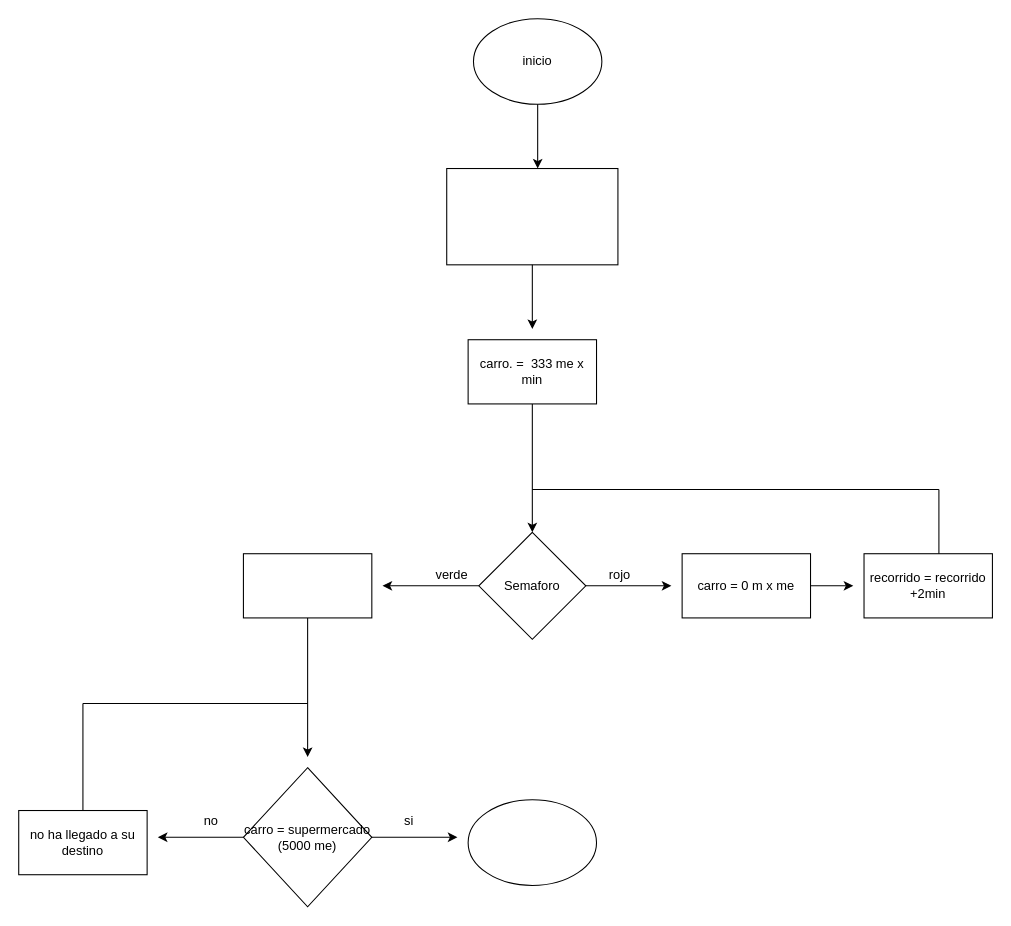
Image size: 1011x926. Some labels were removed from this diagram. Each missing label, with the centre of its shape:
carro = 333 metros x min: pixel 307 585
ha llegado FIN: pixel 532 842
supermercado= 5000 me Carro = 333 me x min Recorrido = 15min: pixel 532 216
